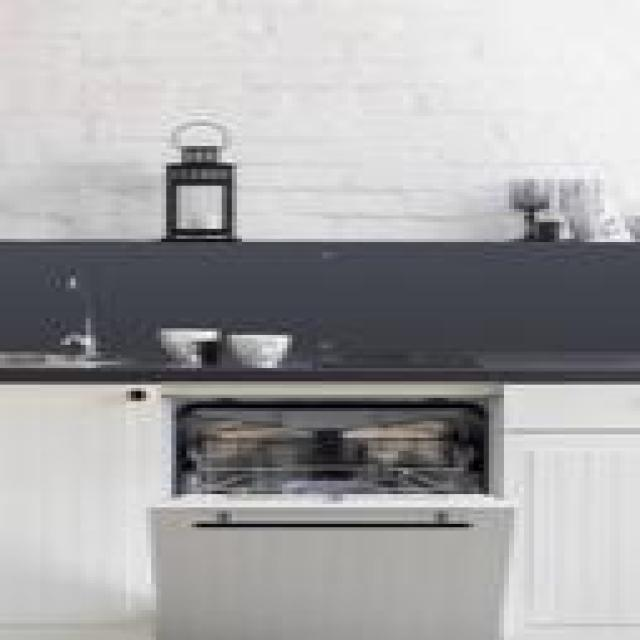dishwasher: (146, 374, 514, 636)
